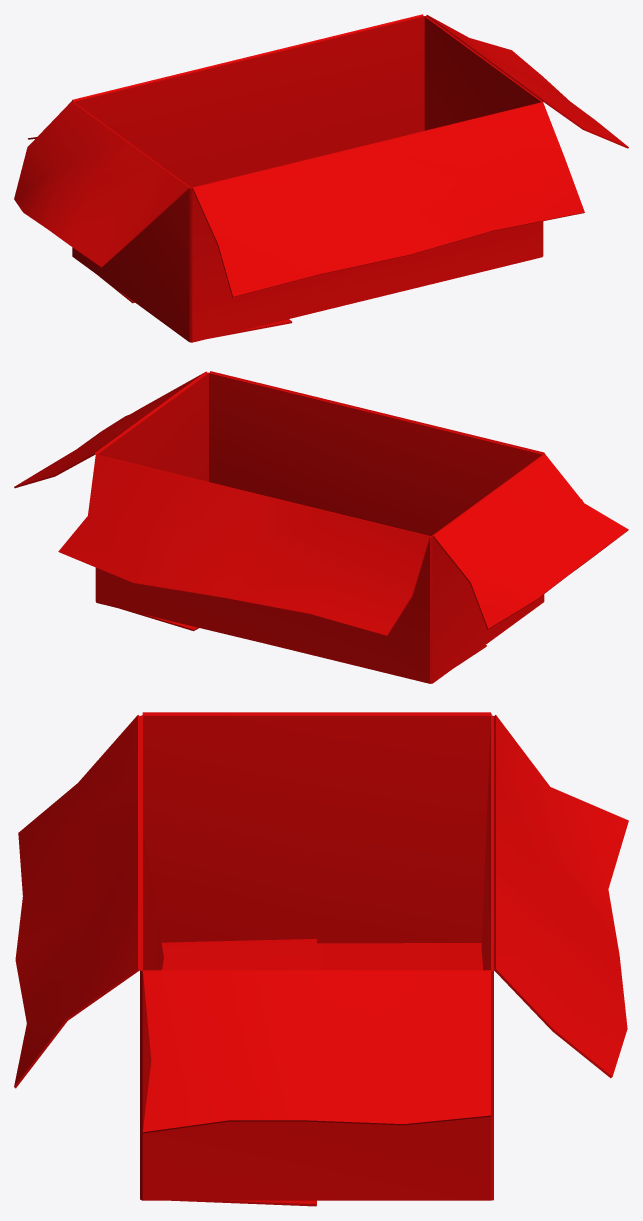
File: cardboardBox1.fbx
3 views of the same model, one above another, from view 1: azimuth 30°, elevation 25°; view 2: azimuth 150°, elevation 25°; view 3: azimuth 270°, elevation 25° (orthographic). The views are drawn at different scales.
Parts seen in each view (by area): view 1: Cardboard_Box_1; view 2: Cardboard_Box_1; view 3: Cardboard_Box_1.
Boxes of the visible parts, left/top/right/bottom form: Cardboard_Box_1: left=14, top=14, right=628, bottom=342; Cardboard_Box_1: left=14, top=371, right=628, bottom=683; Cardboard_Box_1: left=14, top=712, right=628, bottom=1206.
Bounding box in the file's own units: 89.88 × 27.1 × 60.78.
